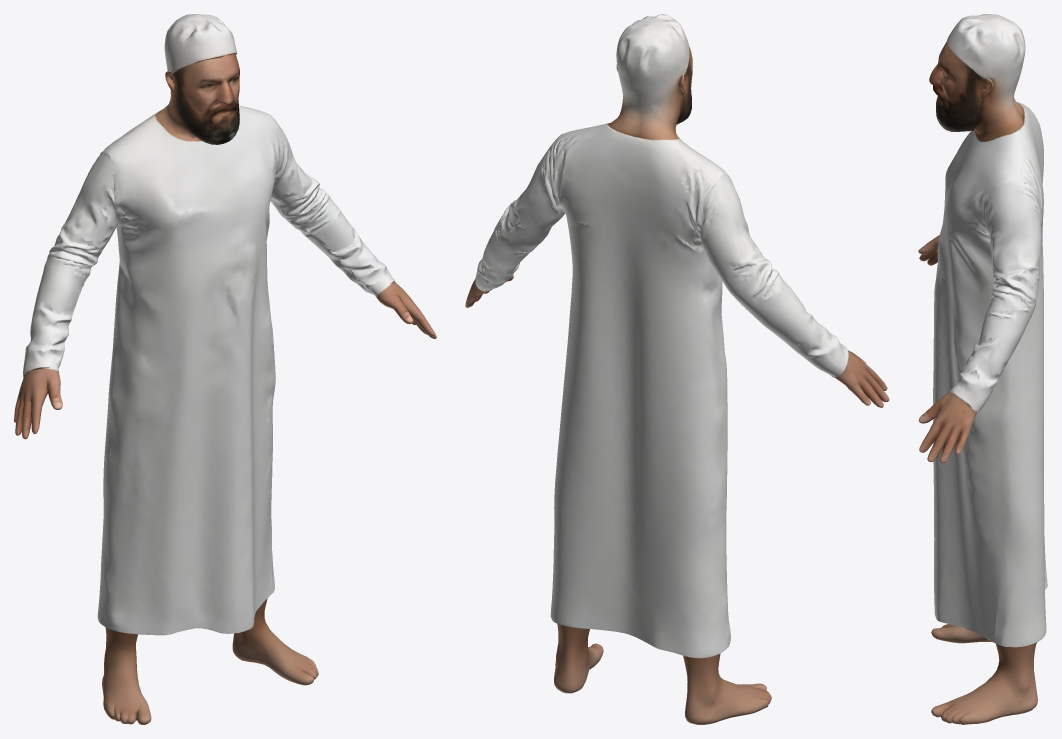
File: levi_6.glb
The picture shows the model from 3 angles, left to right: view 1: azimuth 30°, elevation 25°; view 2: azimuth 150°, elevation 25°; view 3: azimuth 270°, elevation 25°; orthographic projection.
Visible parts, largest first — view 1: Mesh; view 2: Mesh; view 3: Mesh.
Part boxes in pixels (x1,y1,x2,y2): Mesh: (14,14,436,724); Mesh: (465,14,889,724); Mesh: (918,14,1047,724).
Bounding box in the file's own units: 1.23 × 1.9 × 0.337.
Materials: 1 (1 with a texture image).
